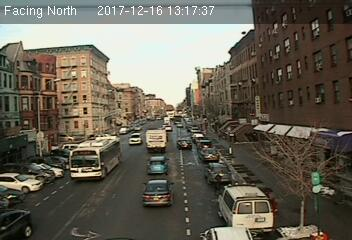bus: (68, 134, 122, 181)
car: (141, 178, 174, 207), (146, 157, 166, 174), (128, 133, 142, 146), (177, 139, 192, 151)
police: (217, 182, 273, 233)
truck: (145, 129, 167, 152)
